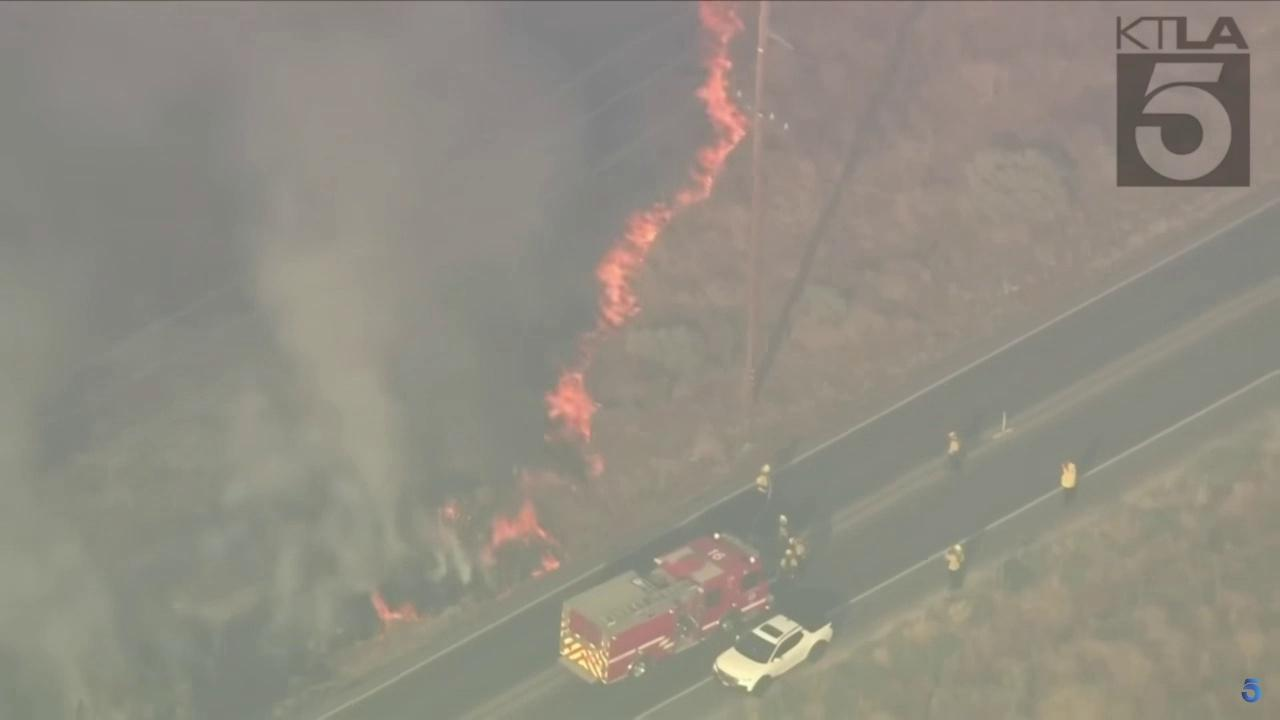fire: (592, 0, 753, 333), (485, 497, 562, 575), (541, 368, 604, 446), (371, 593, 419, 623), (581, 450, 605, 480), (442, 500, 458, 518)
smoke: (0, 0, 719, 720)
